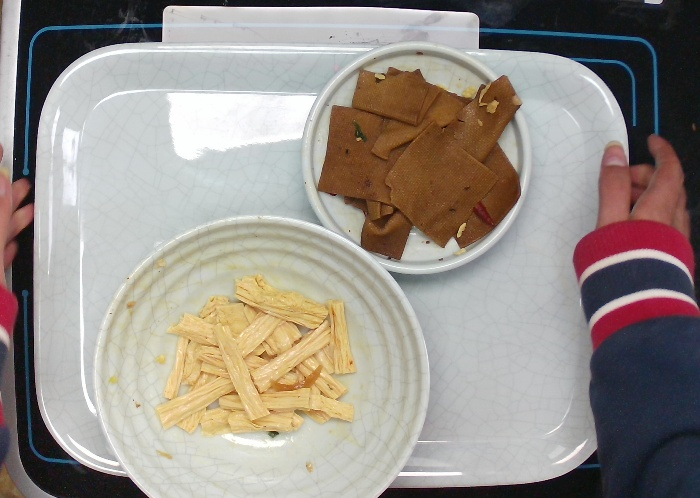JYsf-Da_Tang_Wan: (92, 209, 435, 496)
JYsf-Xiao_Yuan_Pan: (294, 35, 537, 281)
